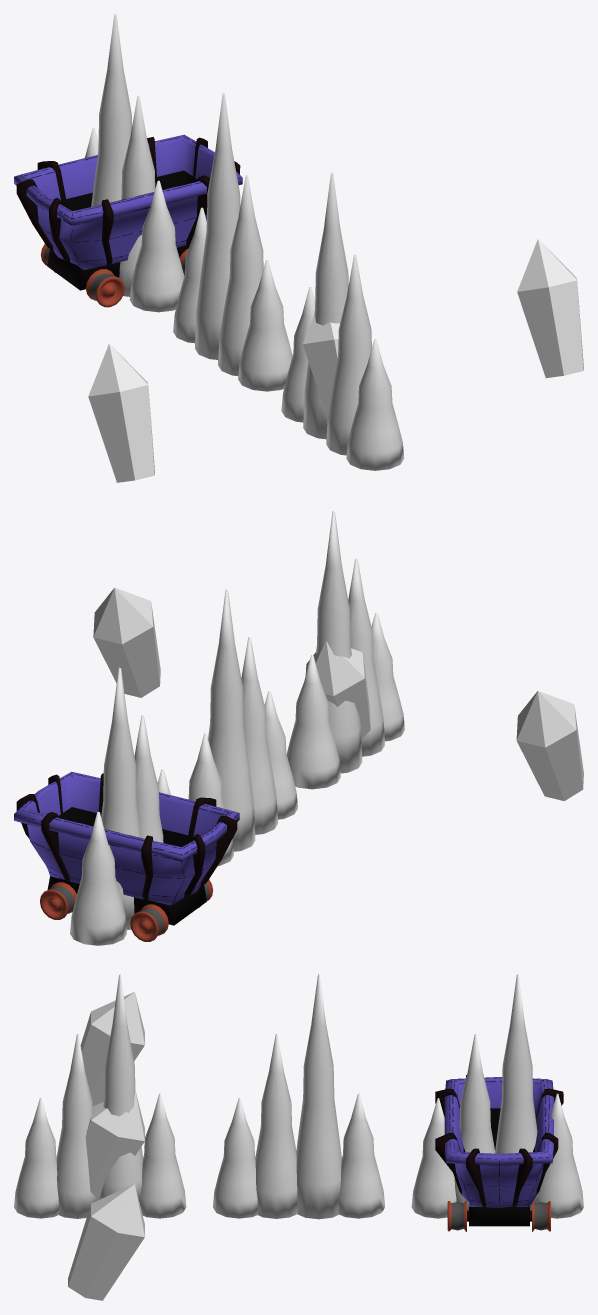
The model's file is VAGONYSTALA.fbx.
The picture shows the model from 3 angles, top to bottom: view 1: azimuth 30°, elevation 25°; view 2: azimuth 150°, elevation 25°; view 3: azimuth 270°, elevation 25°; orthographic projection. The views are drawn at different scales.
Visible parts, largest first — view 1: ESTALACTITA_CENTRO, ESTALACTITA_DERECH, ESTALACTITA_IZQ, MineCart.002, Cristal.005, Cristal.004, MineCart.003, Cristal.003, MineCart.001, MineCart, MineCart.004; view 2: ESTALACTITA_DERECH, ESTALACTITA_CENTRO, MineCart.002, ESTALACTITA_IZQ, Cristal.004, Cristal.005, MineCart.003, Cristal.003, MineCart.001, MineCart, MineCart.004; view 3: ESTALACTITA_CENTRO, ESTALACTITA_DERECH, ESTALACTITA_IZQ, MineCart.002, Cristal.005, Cristal.003, Cristal.004, MineCart.003, MineCart, MineCart.001.
Boxes of the visible parts, bbox=[...] form: ESTALACTITA_CENTRO: bbox=[173, 93, 292, 391]; ESTALACTITA_DERECH: bbox=[281, 172, 404, 470]; ESTALACTITA_IZQ: bbox=[84, 14, 184, 312]; MineCart.002: bbox=[14, 134, 242, 270]; Cristal.005: bbox=[517, 239, 583, 378]; Cristal.004: bbox=[88, 343, 154, 482]; MineCart.003: bbox=[16, 137, 240, 264]; Cristal.003: bbox=[302, 314, 339, 419]; MineCart.001: bbox=[41, 244, 188, 307]; MineCart: bbox=[47, 245, 189, 290]; MineCart.004: bbox=[60, 170, 197, 210]; ESTALACTITA_DERECH: bbox=[286, 511, 404, 789]; ESTALACTITA_CENTRO: bbox=[188, 589, 297, 865]; MineCart.002: bbox=[14, 771, 239, 905]; ESTALACTITA_IZQ: bbox=[70, 667, 170, 945]; Cristal.004: bbox=[516, 691, 583, 800]; Cristal.005: bbox=[93, 587, 160, 697]; MineCart.003: bbox=[16, 773, 237, 900]; Cristal.003: bbox=[305, 641, 370, 739]; MineCart.001: bbox=[40, 879, 213, 941]; MineCart: bbox=[47, 876, 206, 925]; MineCart.004: bbox=[58, 807, 193, 846]; ESTALACTITA_CENTRO: bbox=[213, 974, 384, 1219]; ESTALACTITA_DERECH: bbox=[14, 974, 186, 1218]; ESTALACTITA_IZQ: bbox=[411, 974, 583, 1218]; MineCart.002: bbox=[444, 1077, 553, 1208]; Cristal.005: bbox=[68, 1184, 144, 1300]; Cristal.003: bbox=[85, 1090, 144, 1199]; Cristal.004: bbox=[80, 992, 144, 1106]; MineCart.003: bbox=[435, 1075, 563, 1206]; MineCart: bbox=[467, 1207, 531, 1226]; MineCart.001: bbox=[447, 1200, 550, 1231].
Bounding box in the file's own units: 911 × 455 × 1003.
